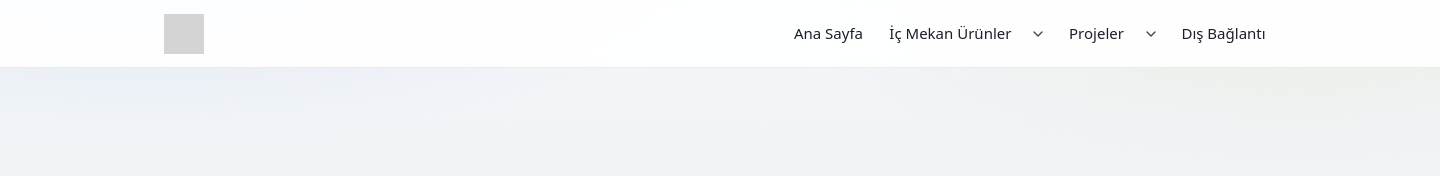
Test: SiteHeader › renders href:null parents as buttons, not anchors
Click the button "İç Mekan Ürünler" at {"x": 950, "y": 34}, box [879,16,1022,52]
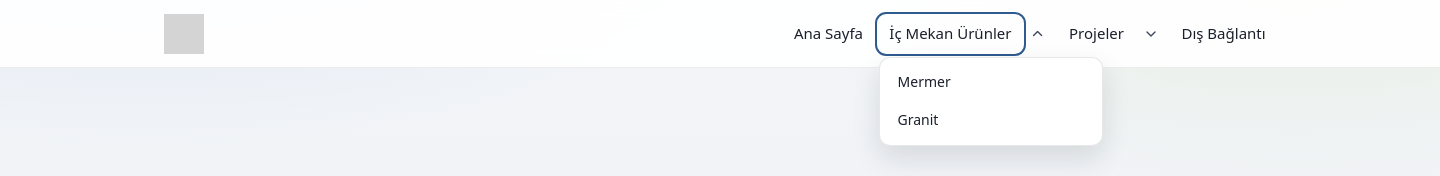
Now the link "Mermer" is shown, box [898,72,951,91]
Now the link "Granit" is shown, box [898,110,938,129]
